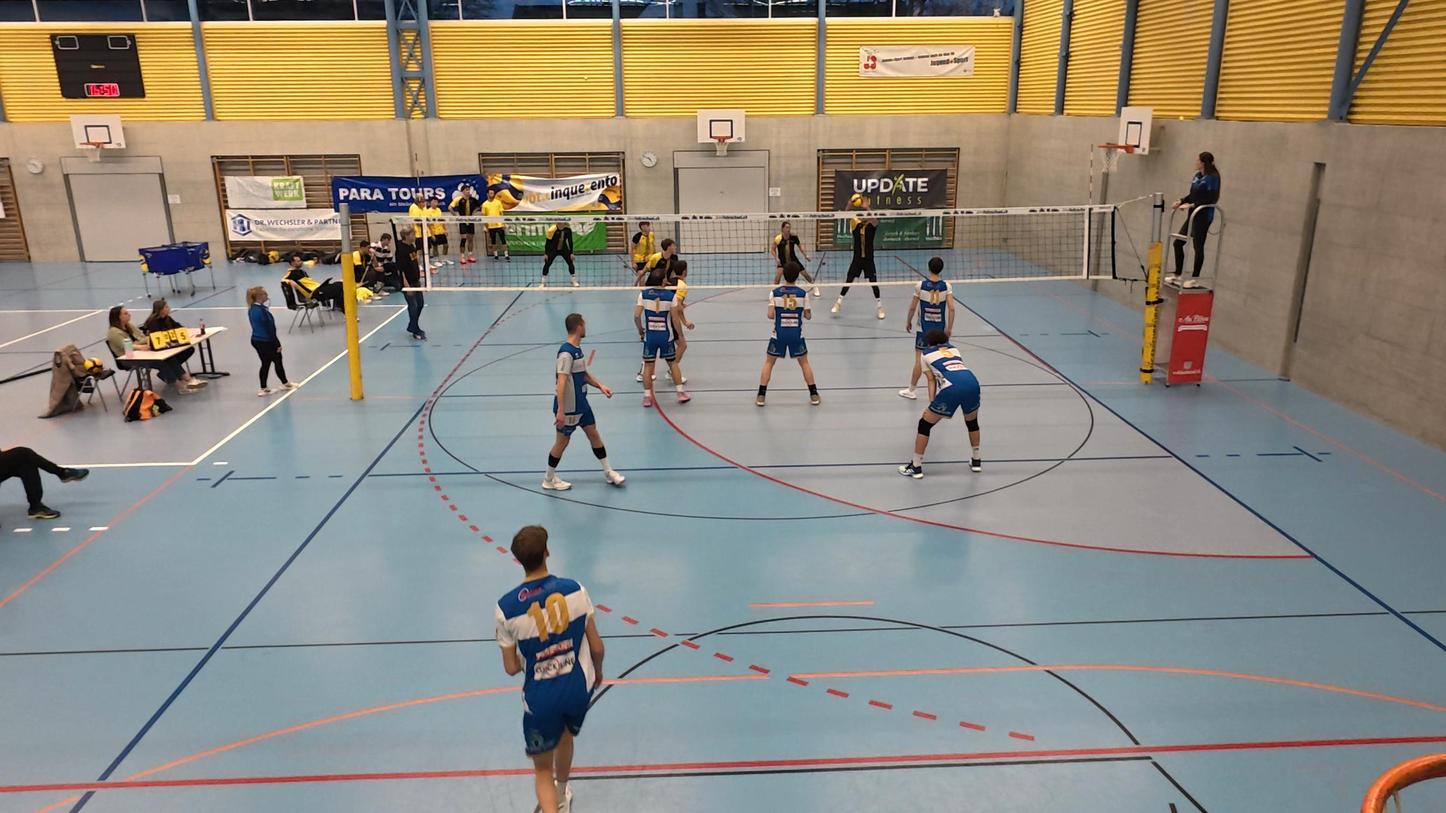ricezione: (831, 193, 889, 327)
